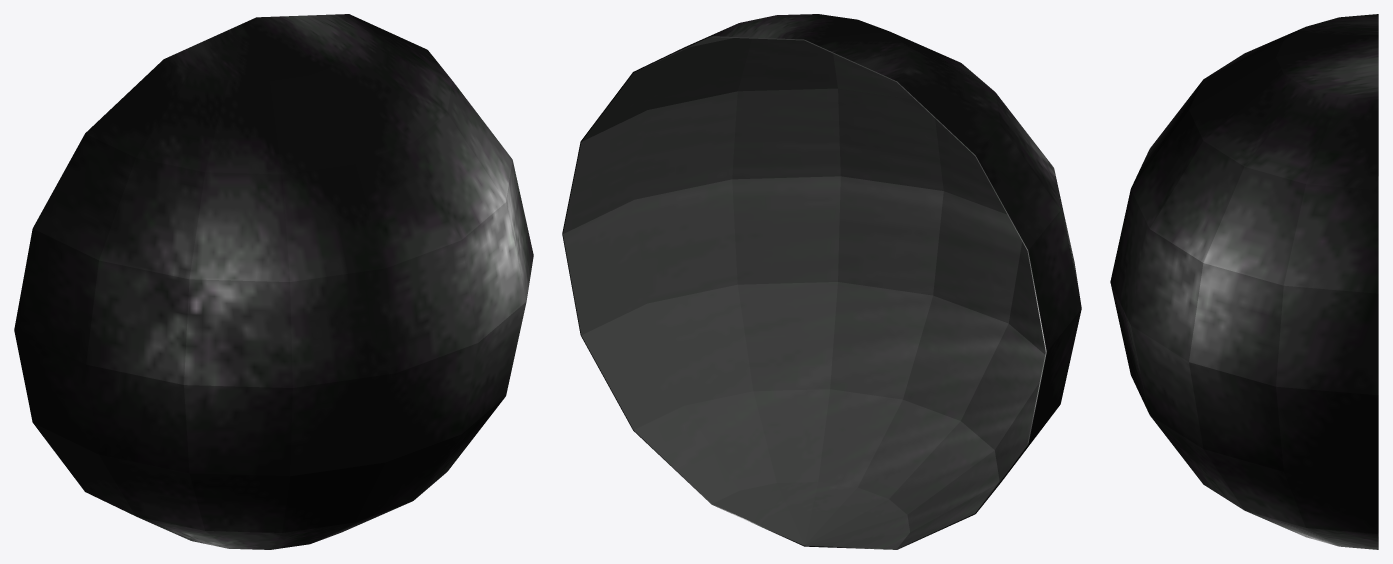
File: tx_boss_anyingzhuoshao_fire.obj
3 views of the same model, side by side, from view 1: azimuth 30°, elevation 25°; view 2: azimuth 150°, elevation 25°; view 3: azimuth 270°, elevation 25° (orthographic). The views are drawn at different scales.
Parts seen in each view (by area): view 1: Sphere02; view 2: Sphere01, Sphere02; view 3: Sphere02, Sphere01.
Boxes of the visible parts, <box> form: Sphere02: <box>14,14,533,549</box>; Sphere01: <box>563,36,1046,548</box>; Sphere02: <box>562,14,1081,549</box>; Sphere02: <box>1110,14,1378,549</box>; Sphere01: <box>1378,176,1378,536</box>.
Size of the model in its own units: 180 by 180 by 90.19.
Materials: 2 (2 with a texture image).
